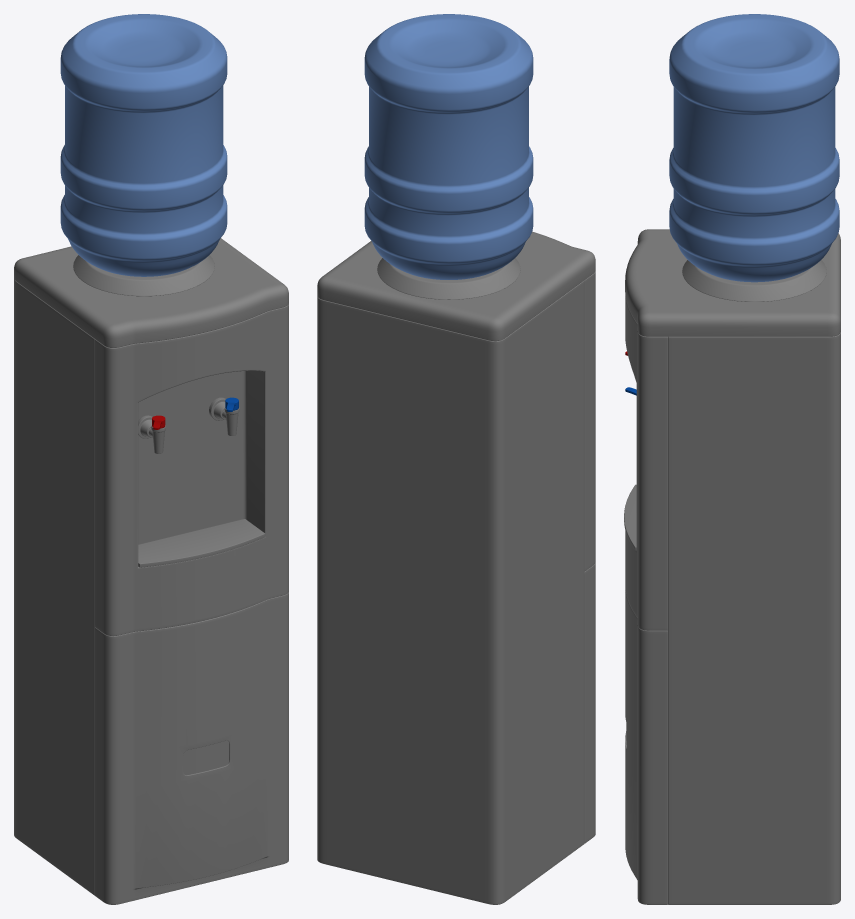
File: 饮水机1.FBX
The picture shows the model from 3 angles, left to right: view 1: azimuth 30°, elevation 25°; view 2: azimuth 150°, elevation 25°; view 3: azimuth 270°, elevation 25°; orthographic projection. The views are drawn at different scales.
Parts seen in each view (by area): view 1: archmodels87_033_001, archmodels87_033_003, archmodels87_033_002; view 2: archmodels87_033_001, archmodels87_033_003; view 3: archmodels87_033_001, archmodels87_033_003.
Part boxes in pixels (x1,y1,x2,y2): archmodels87_033_001: (14,238,288,904); archmodels87_033_003: (60,14,227,276); archmodels87_033_002: (183,740,229,775); archmodels87_033_001: (317,231,595,904); archmodels87_033_003: (364,14,533,279); archmodels87_033_001: (624,229,840,904); archmodels87_033_003: (669,14,839,282).
Size of the model in its own units: 500 by 2081 by 502.
